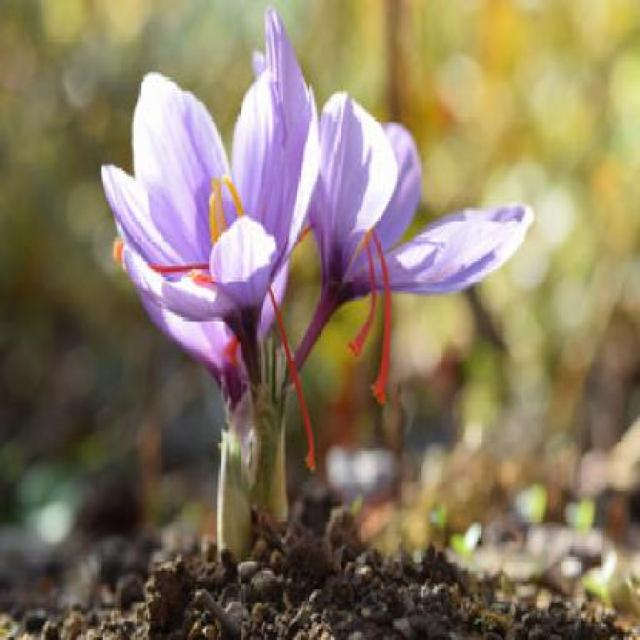Flower: (93, 29, 315, 358), (308, 86, 540, 325), (312, 327, 316, 356)
stigma: (268, 284, 320, 475), (369, 234, 395, 407), (344, 235, 378, 358), (146, 262, 212, 274)
